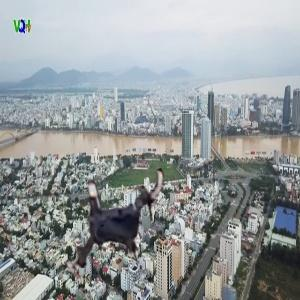drone: (50, 156, 183, 289)
